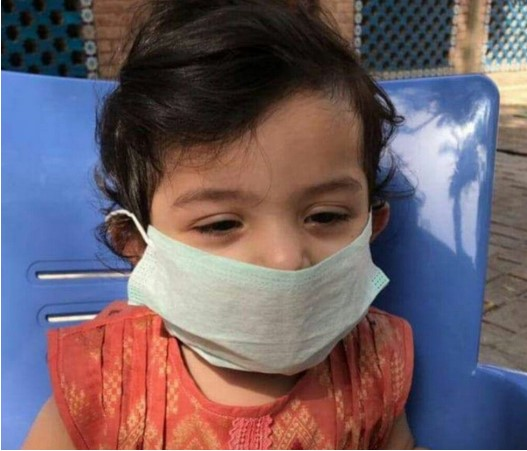face_with_mask: (103, 52, 397, 378)
